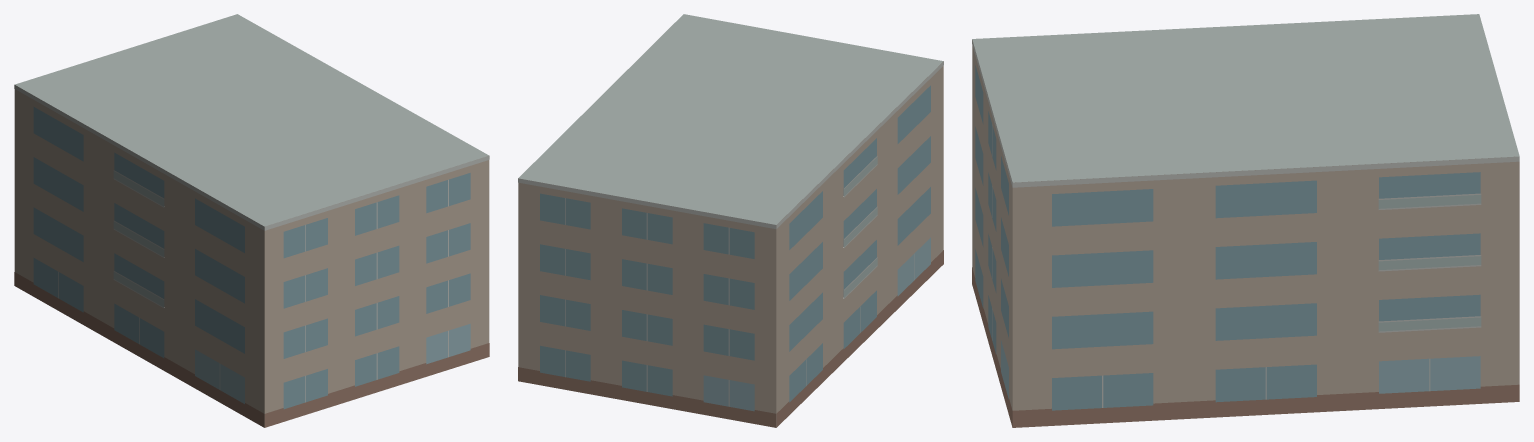
File: survey-upis-32485207.glb
The picture shows the model from 3 angles, left to right: view 1: azimuth 30°, elevation 25°; view 2: azimuth 150°, elevation 25°; view 3: azimuth 270°, elevation 25°; orthographic projection. The views are drawn at different scales.
Parts seen in each view (by area): view 1: survey-upis-32485207.tmp; view 2: survey-upis-32485207.tmp; view 3: survey-upis-32485207.tmp.
Part boxes in pixels (x1,y1,x2,y2): survey-upis-32485207.tmp: [14, 14, 489, 427]; survey-upis-32485207.tmp: [518, 14, 943, 427]; survey-upis-32485207.tmp: [972, 14, 1519, 427].
Bounding box in the file's own units: 17.11 × 11.6 × 23.48.
